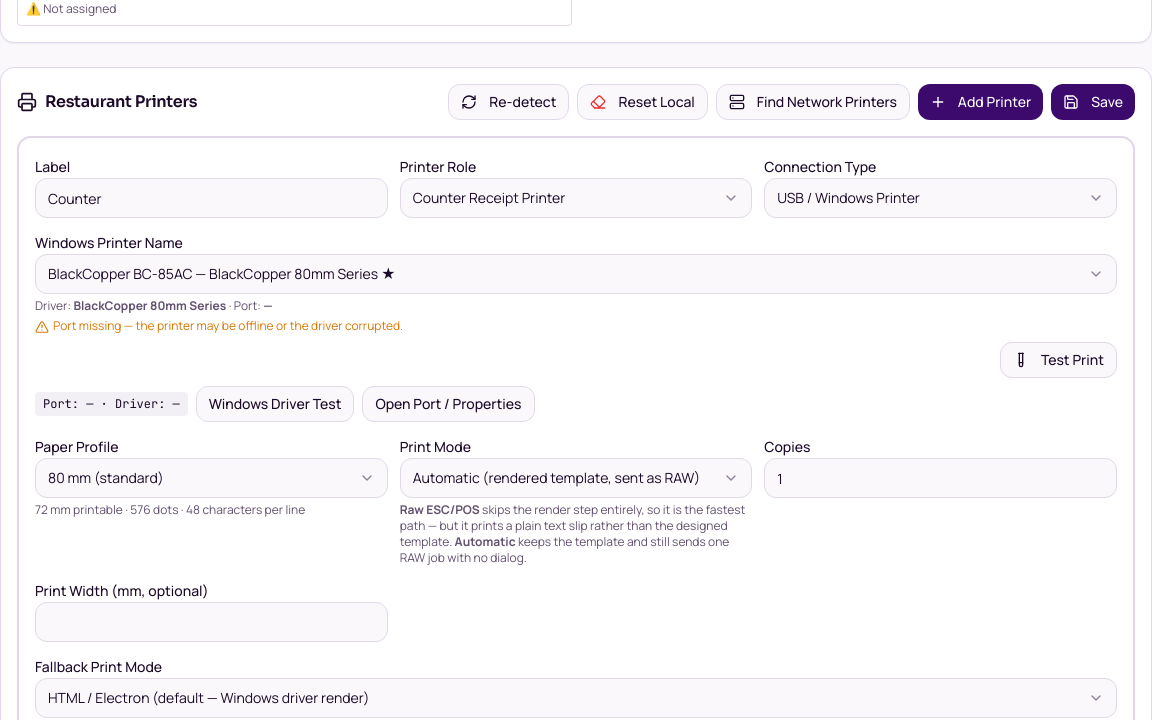
it: Printer Center — "Came out blank" on a Black Copper › switches Automatic → Windows driver, saves it, re-tests; then confirms
The width and height of the screenshot is (1152, 720).
(page scrolled)
Click the button "Test Print" at {"x": 1058, "y": 360}, box [1000,342,1117,378]
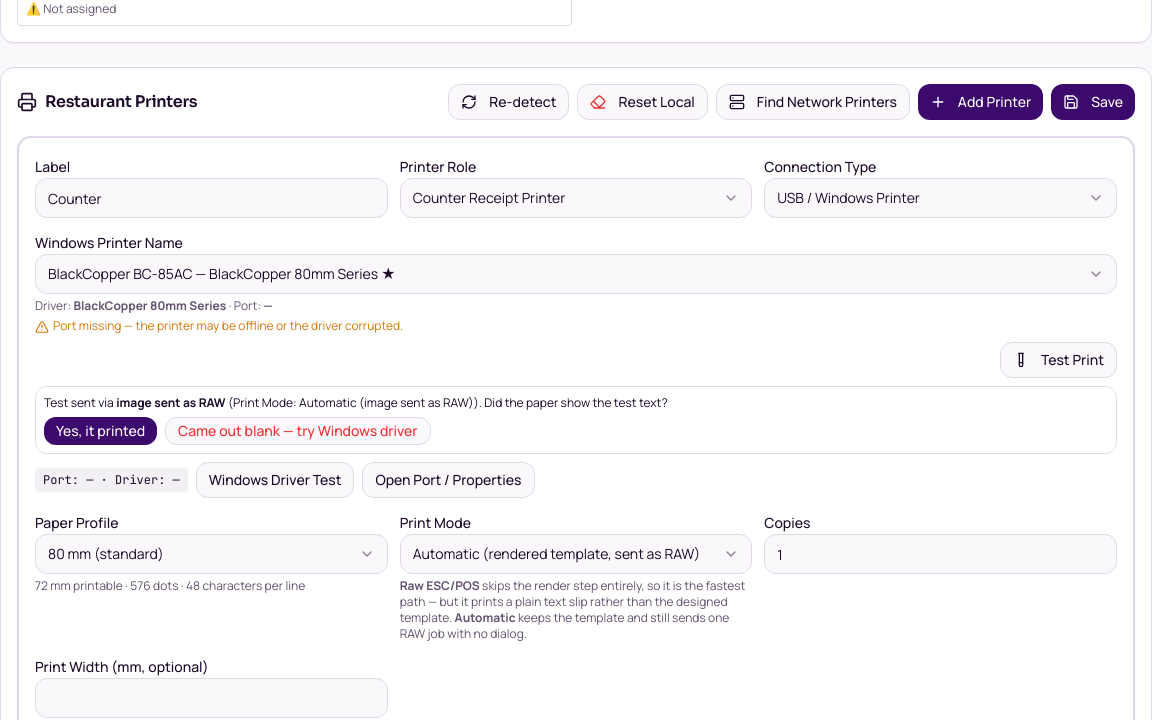
Check: the element with test id "test-feedback" shows "Test sent via image sent as RAW (Print Mode: Automatic (image sent as RAW))", box [35,386,1117,454]
# The shop saw a blank slip.
Click the button "Came out blank — try Windows driver" at {"x": 298, "y": 431}, box [165,417,431,445]
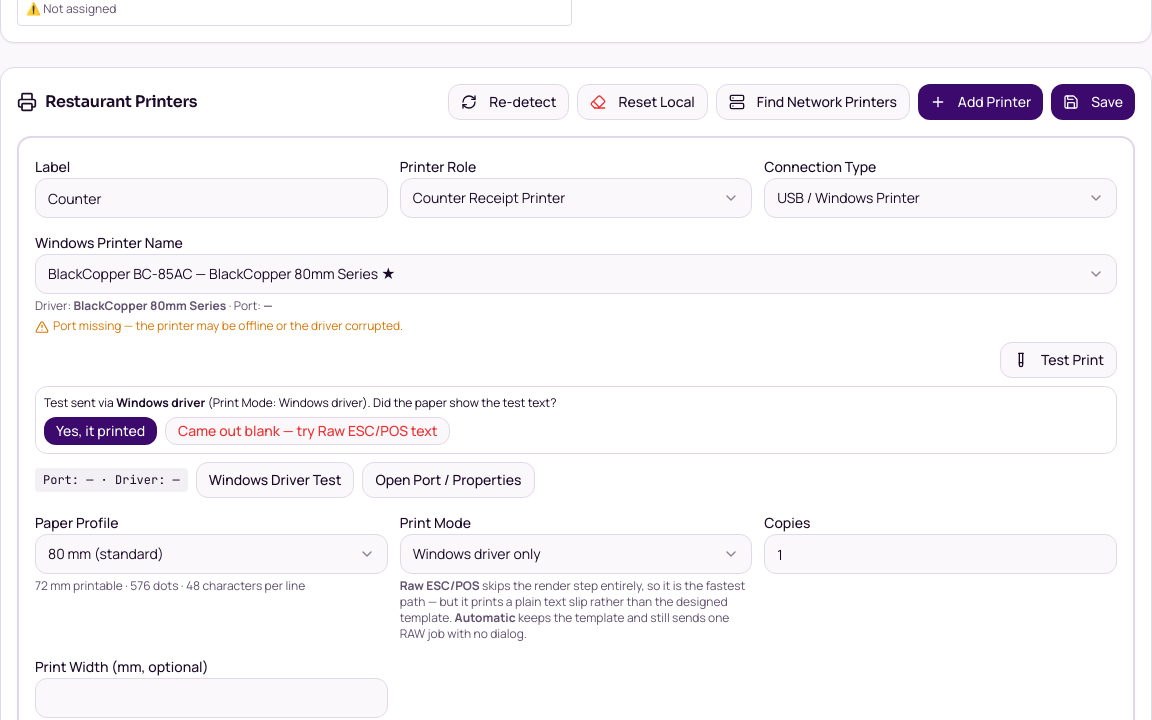
Check: the element with test id "test-feedback" shows "Test sent via Windows driver (Print Mode: Windows driver)", box [35,386,1117,454]
# It printed this time.
Click the button "Yes, it printed" at {"x": 101, "y": 431}, box [44,417,157,445]
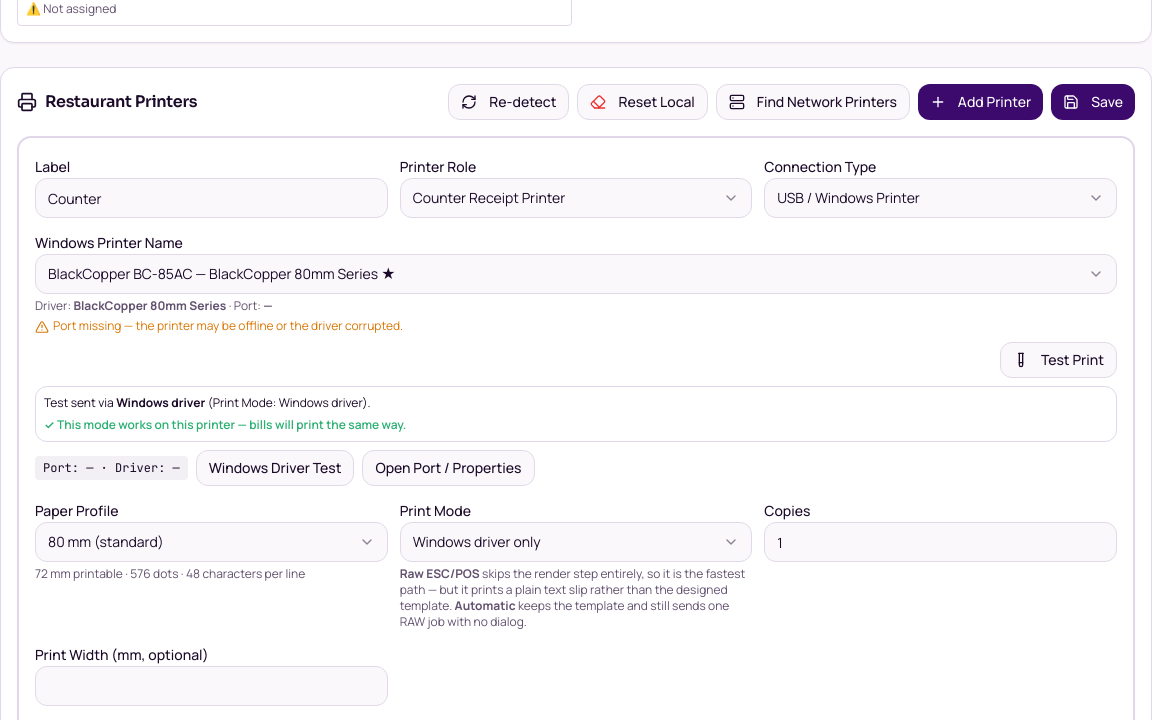
Check: the element with test id "test-feedback" shows "This mode works on this printer", box [44,416,406,433]
